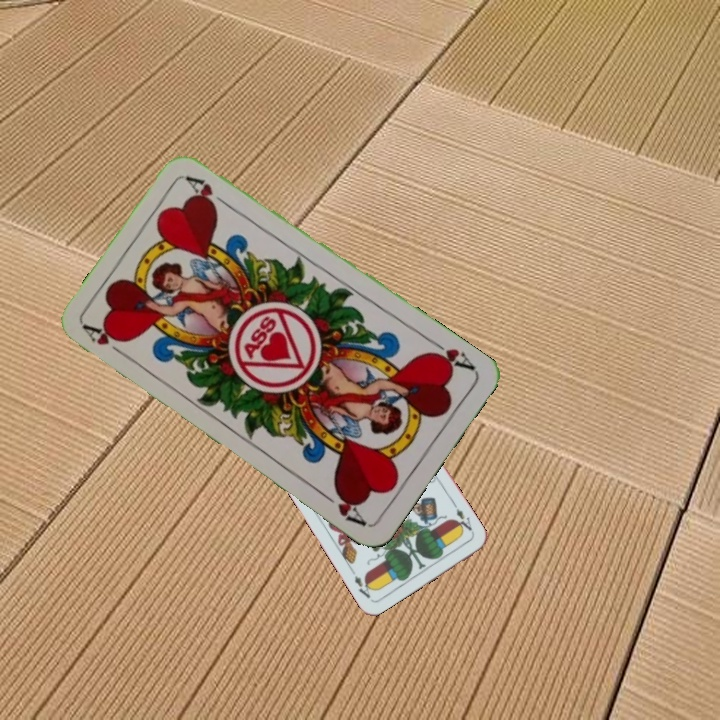EA: (450, 500, 477, 537)
HA: (423, 334, 478, 374), (80, 321, 133, 362)
